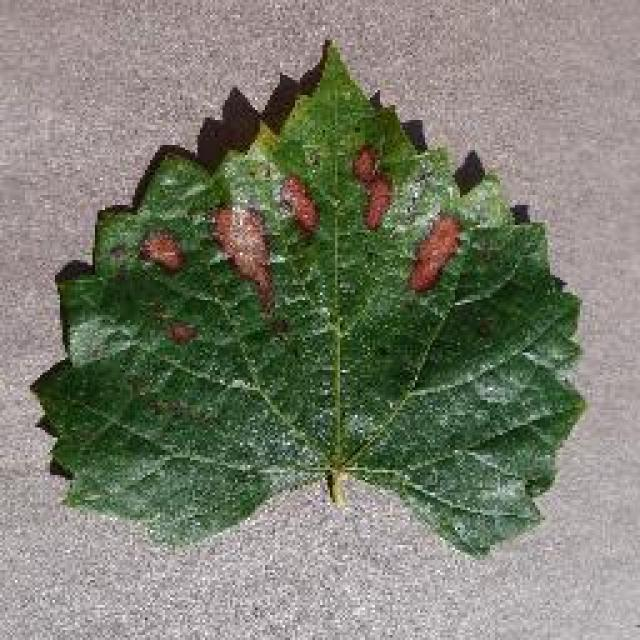Black_Measles: (29, 26, 596, 596)
